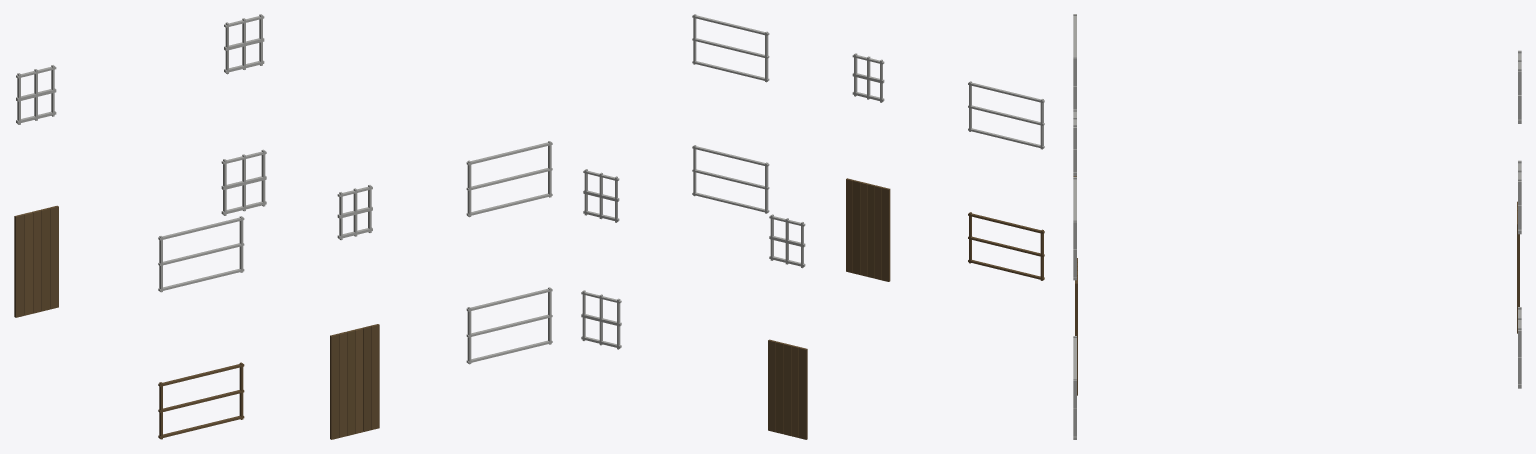
Rendered from SM_Bld_189_Wood.glb.
3 renders of one model, left to right at view 1: azimuth 30°, elevation 25°; view 2: azimuth 150°, elevation 25°; view 3: azimuth 270°, elevation 25°, orthographic. The views are drawn at different scales.
Parts seen in each view (by area): view 1: SM_Bld_189_Wood; view 2: SM_Bld_189_Wood; view 3: SM_Bld_189_Wood.
Boxes of the visible parts, x1,y1,x2,y2 form: SM_Bld_189_Wood: (14,14,552,439); SM_Bld_189_Wood: (581,14,1044,439); SM_Bld_189_Wood: (1073,14,1521,439).
Bounding box in the file's own units: 8.14 × 4.86 × 7.43.
